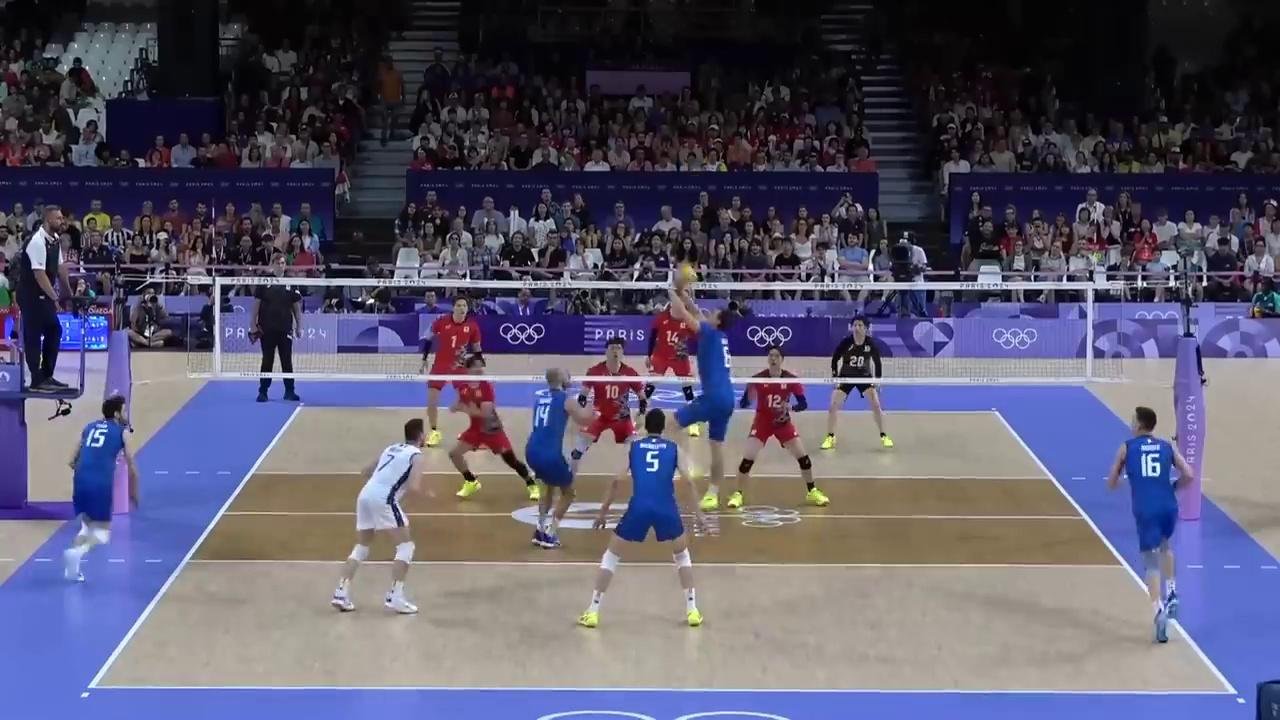ball: (673, 262, 696, 290)
